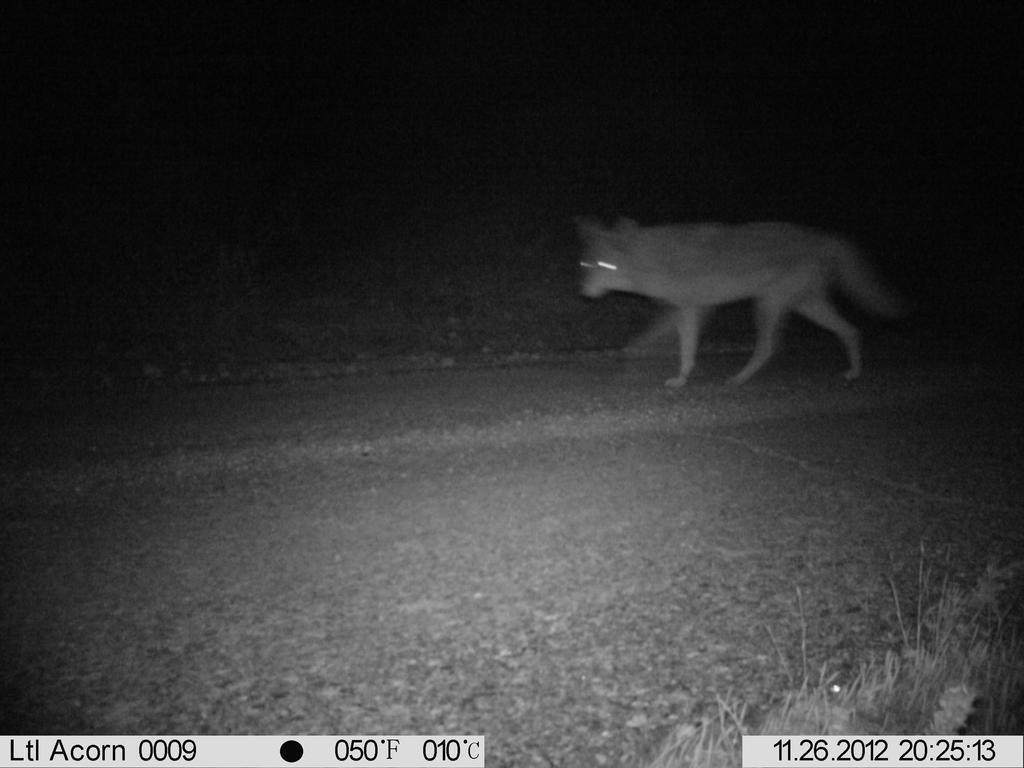coyote: (564, 200, 918, 400)
